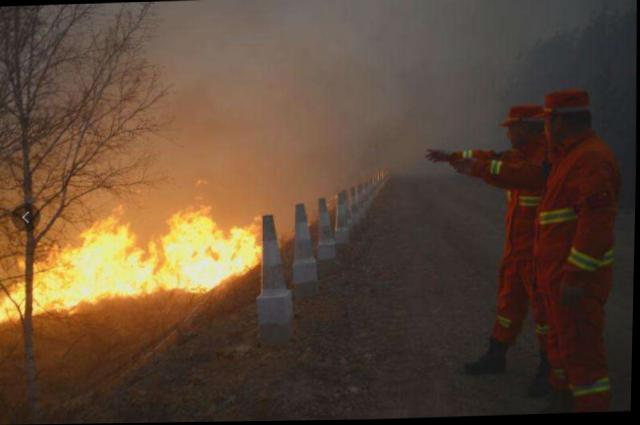fire: (0, 191, 266, 320)
